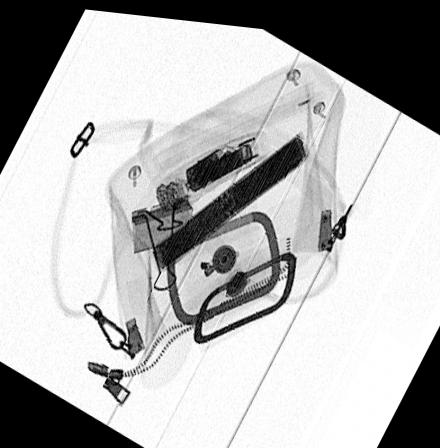Powerbank: (147, 121, 308, 271)
